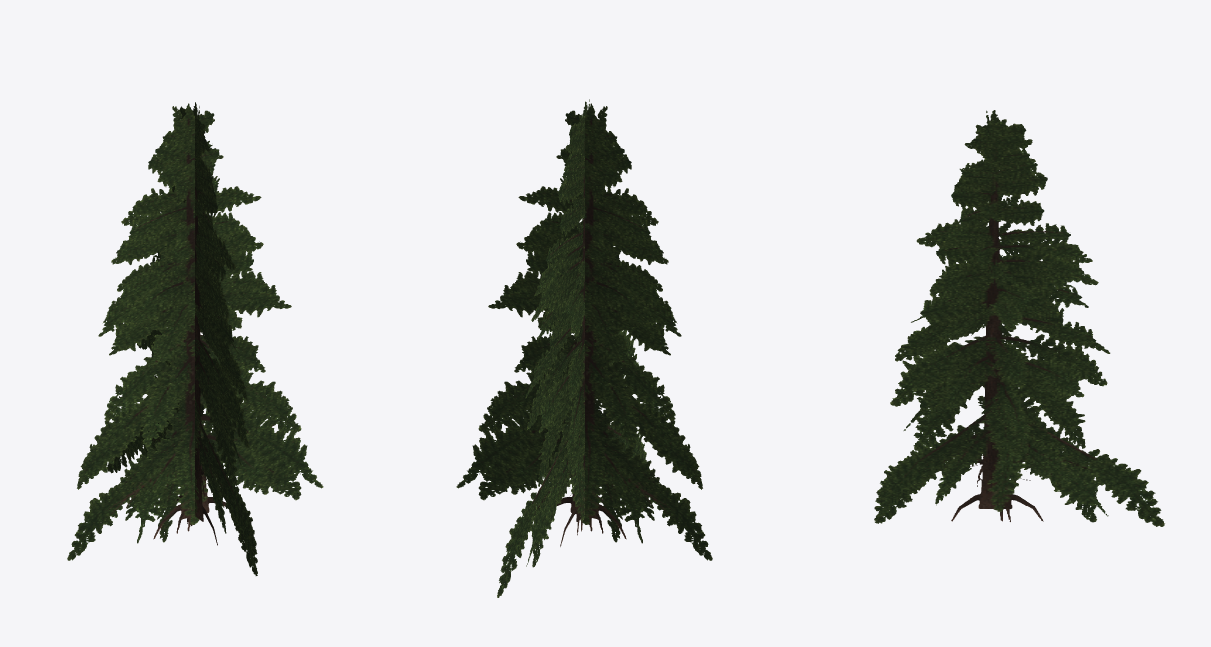
The model's file is pine_c_billboard.glb.
3 renders of one model, left to right at view 1: azimuth 30°, elevation 25°; view 2: azimuth 150°, elevation 25°; view 3: azimuth 270°, elevation 25°, orthographic. The views are drawn at different scales.
Parts seen in each view (by area): view 1: pine_c_billboard; view 2: pine_c_billboard; view 3: pine_c_billboard.
Part boxes in pixels (bbox=[...]): pine_c_billboard: bbox=[67, 102, 323, 575]; pine_c_billboard: bbox=[456, 99, 712, 597]; pine_c_billboard: bbox=[874, 110, 1164, 526].
Size of the model in its own units: 9 by 11.08 by 9.
Materials: 1 (1 with a texture image).
